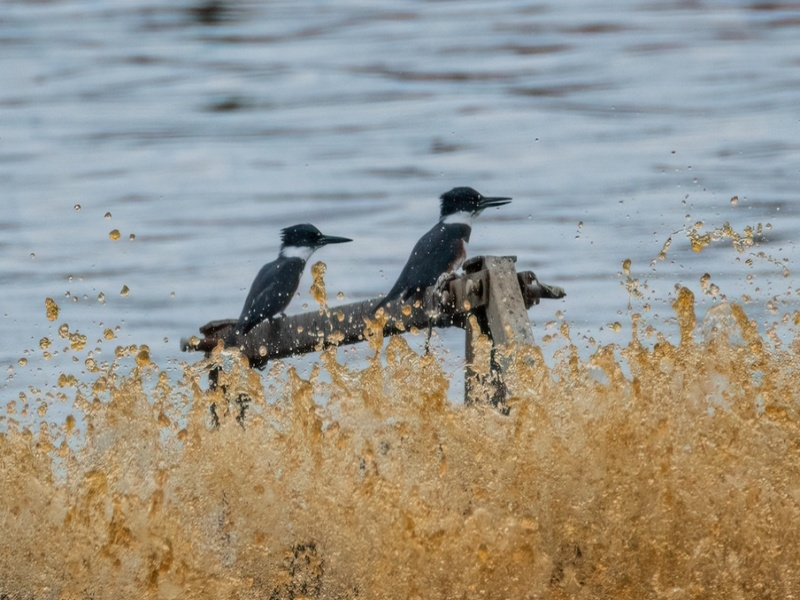kingfisher: (383, 183, 517, 318), (234, 220, 353, 336)
